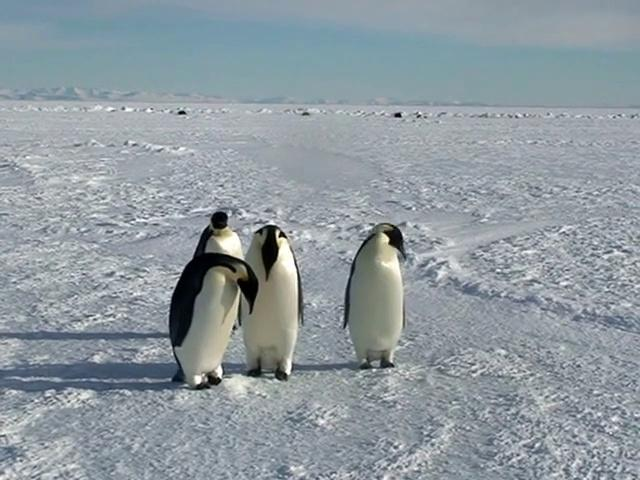animal: (345, 224, 406, 369)
